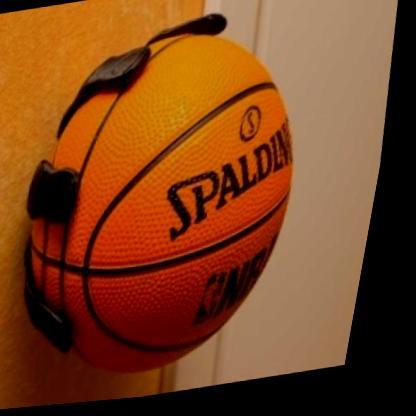basketball: (0, 9, 344, 402)
